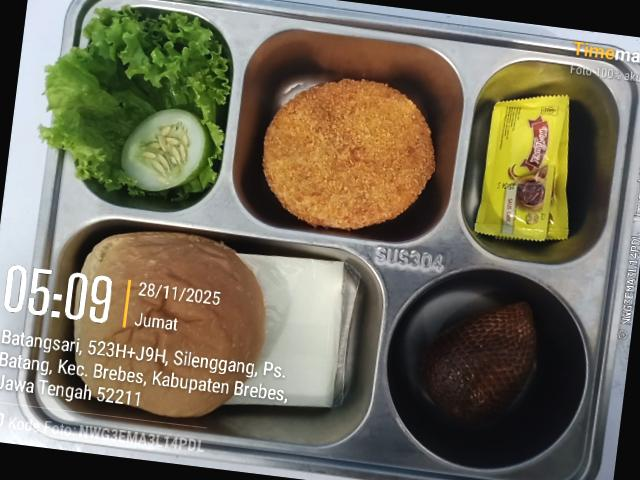ayam: (262, 79, 434, 230)
buah: (421, 302, 536, 422)
keju: (226, 254, 359, 408)
roti: (74, 232, 265, 417)
sayur: (39, 6, 230, 200)
